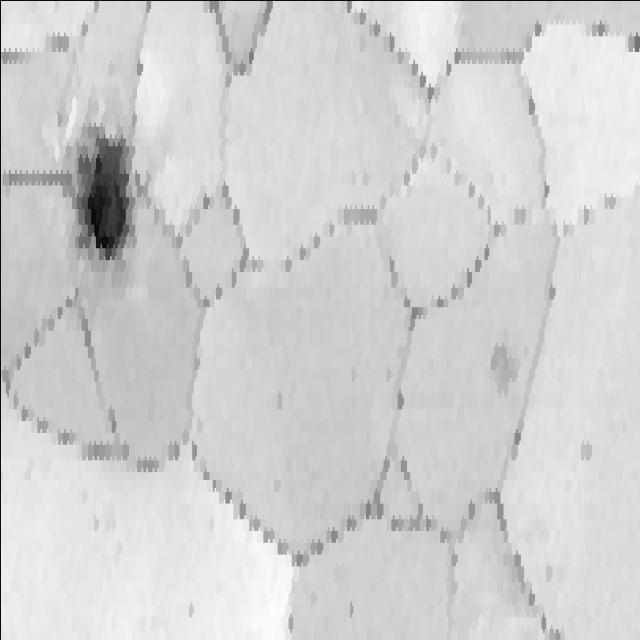good_void: (68, 114, 150, 303), (489, 338, 520, 396), (576, 432, 594, 467), (271, 386, 289, 420), (345, 591, 357, 625), (185, 591, 195, 624), (285, 607, 295, 638), (132, 59, 145, 81), (393, 386, 402, 414)
